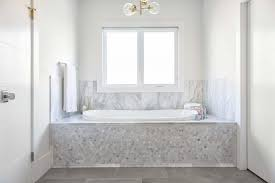bathub: (82, 102, 199, 167)
